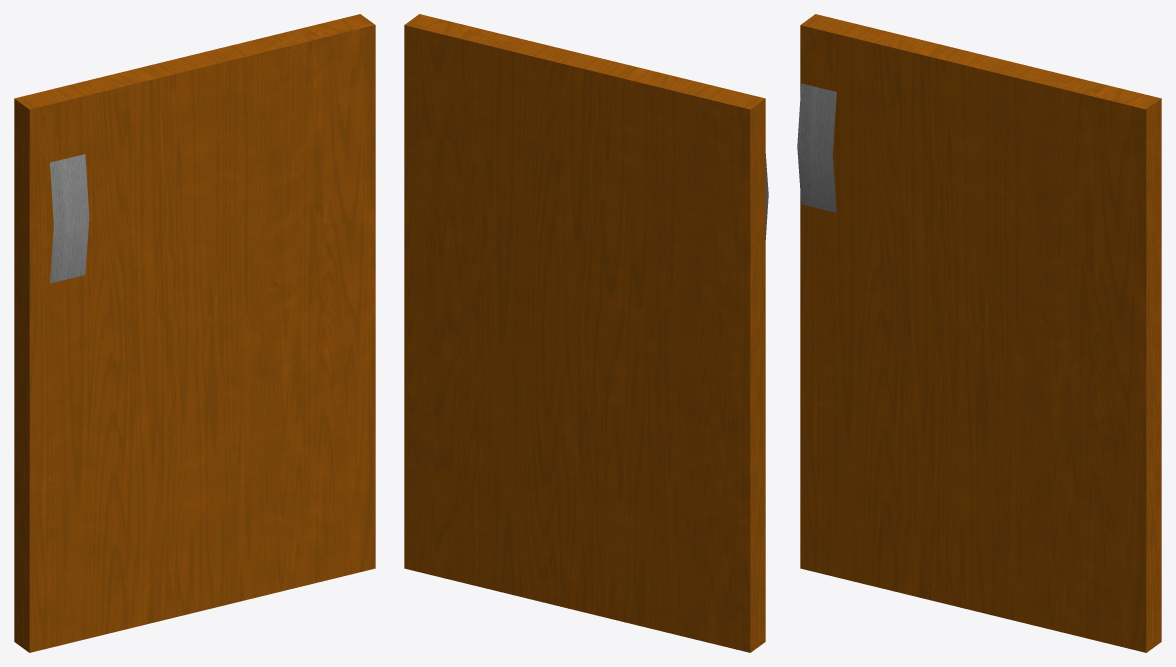
Rendered from p6_wood_cabinet_door_left_lod1.glb.
The picture shows the model from 3 angles, left to right: view 1: azimuth 30°, elevation 25°; view 2: azimuth 150°, elevation 25°; view 3: azimuth 330°, elevation 25°; orthographic projection.
Visible parts, largest first — view 1: surf1, surf0; view 2: surf1; view 3: surf1, surf0.
Part boxes in pixels (x1,y1,x2,y2): surf1: (14, 14, 375, 652); surf0: (50, 154, 89, 283); surf1: (404, 14, 765, 652); surf1: (800, 14, 1161, 652); surf0: (797, 83, 836, 212).
Size of the model in its own units: 19.68 by 29.53 by 2.85.
